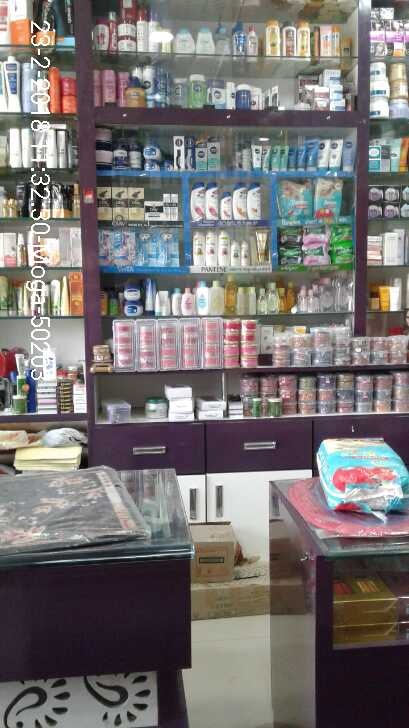venus: (102, 230, 133, 264), (156, 227, 177, 265), (134, 231, 154, 264)
